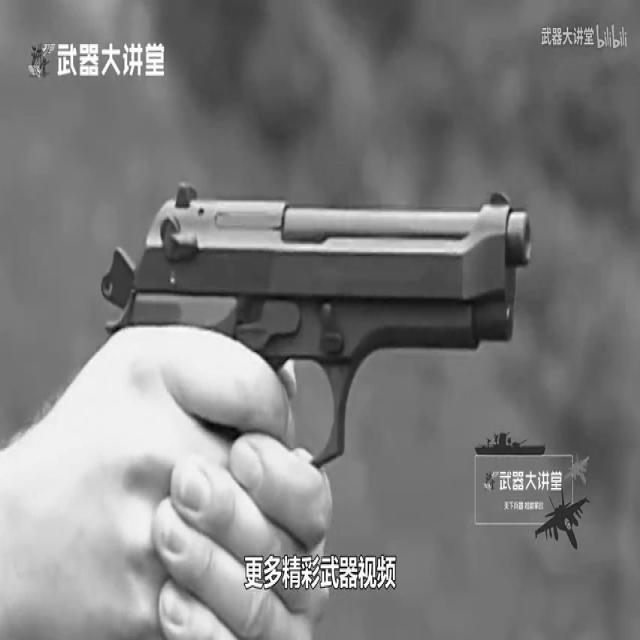Hand-Gun: (92, 52, 574, 640)
